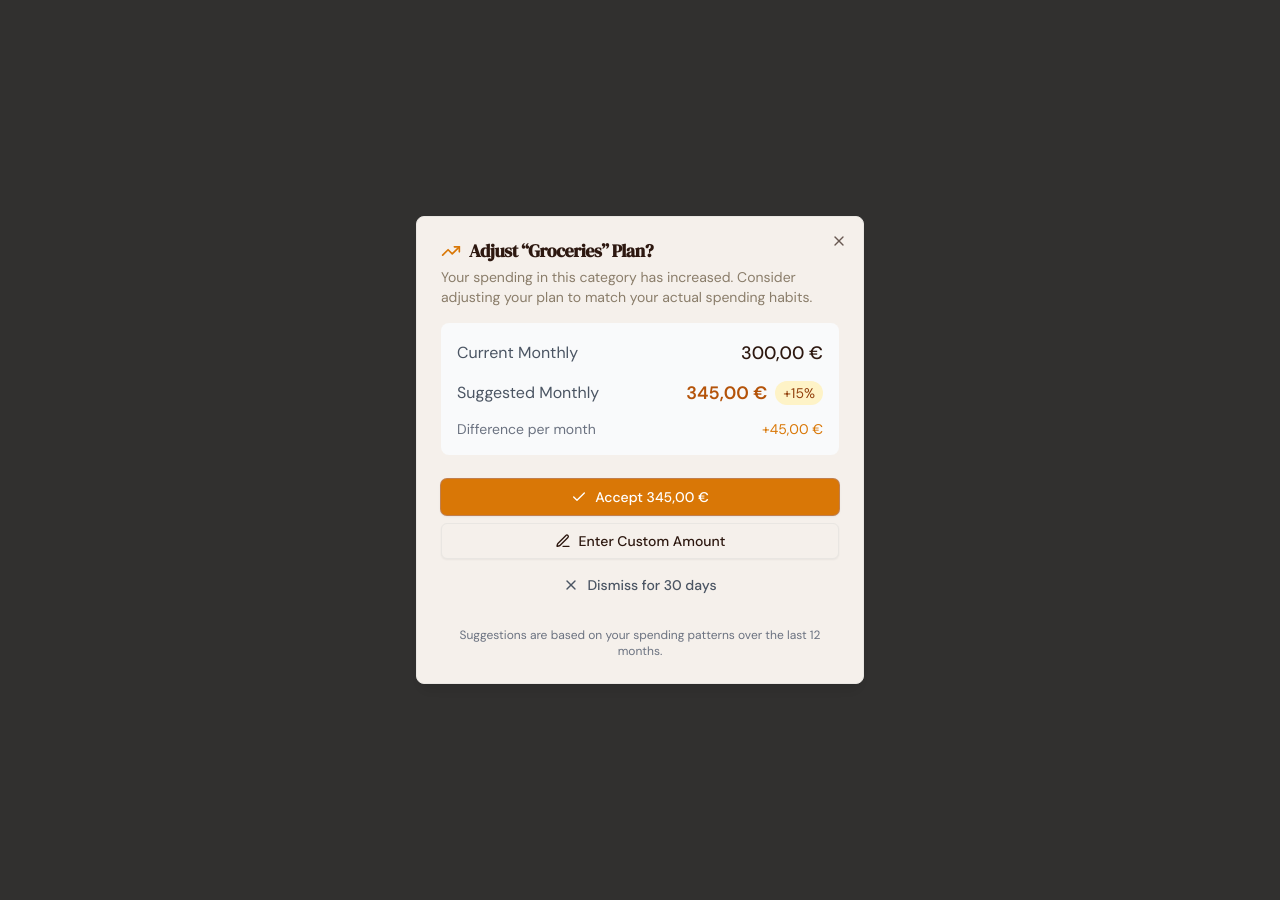
it: AdjustmentSuggestionModal › custom amount › should show custom amount input when "Enter Custom Amount" is clicked
The image size is (1280, 900).
Click the button "Enter Custom Amount": click(640, 541) [441, 523, 839, 559]
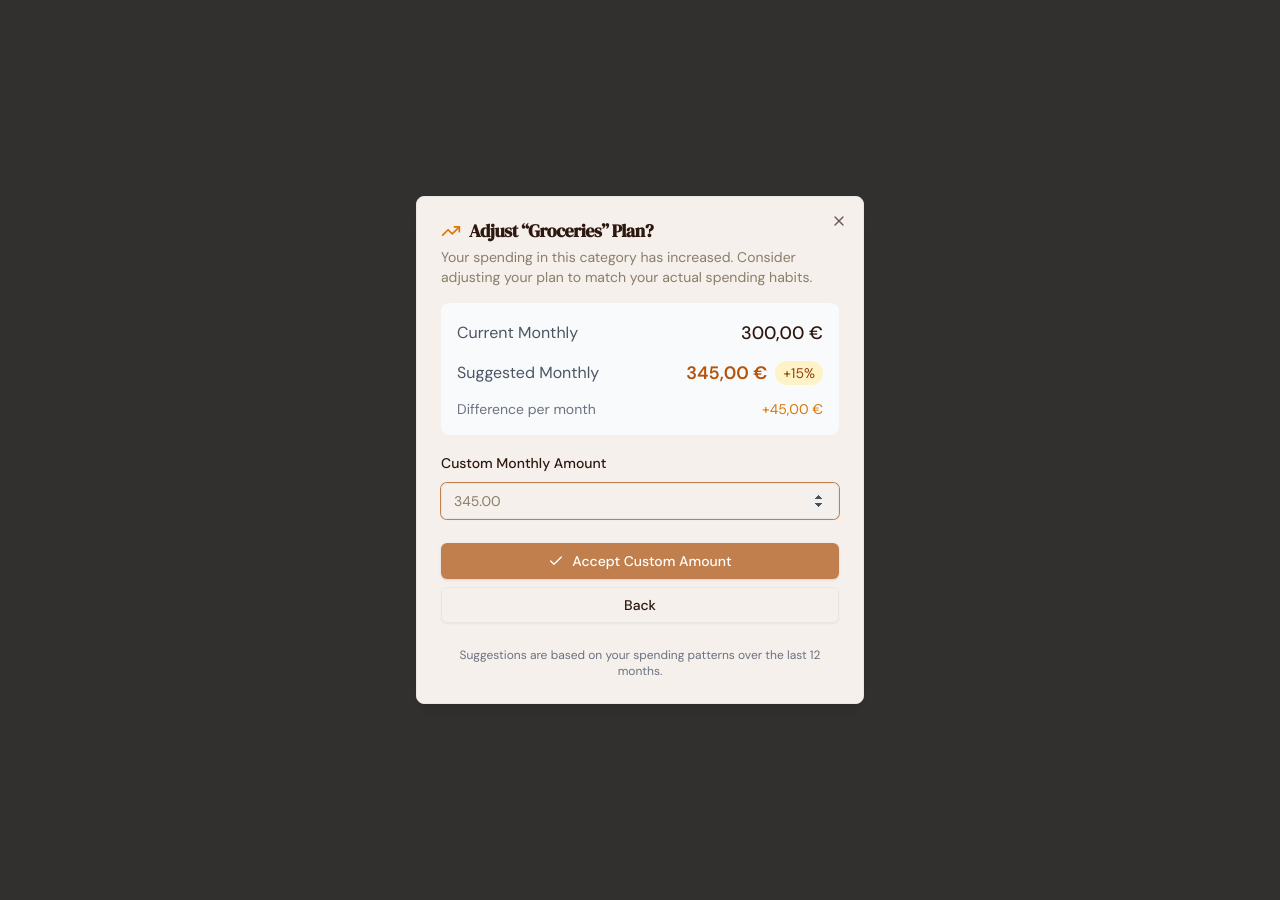
Expected: the number field labelled "Custom Monthly Amount" is shown, [441, 483, 839, 519]
